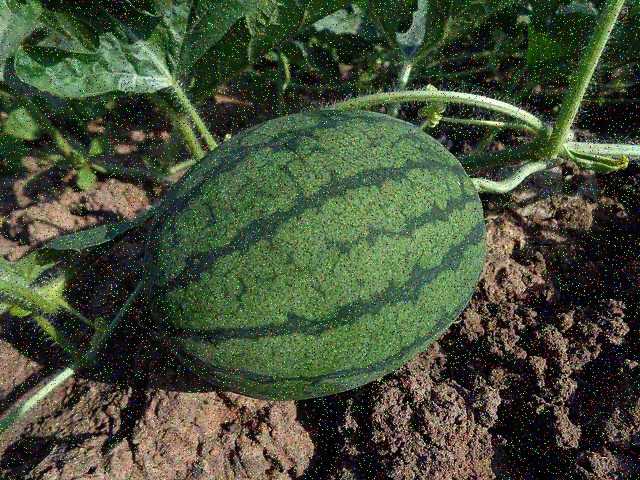watermelon: (143, 100, 483, 398)
